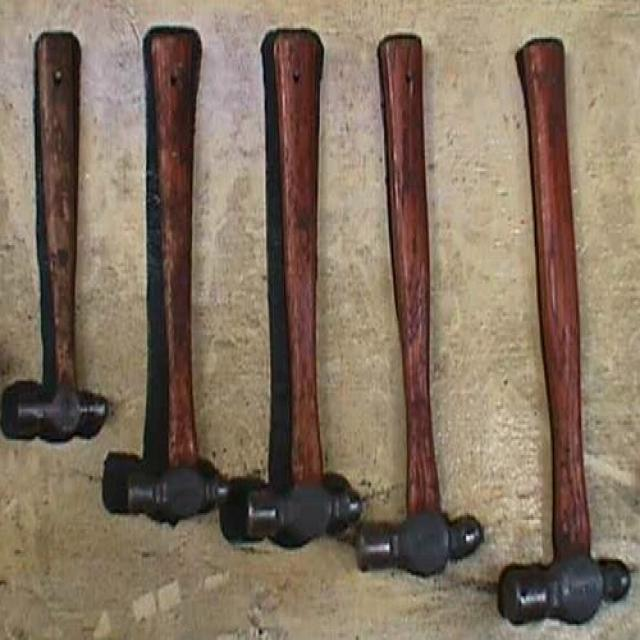hammer: (480, 30, 638, 635), (348, 27, 488, 586), (240, 20, 368, 555), (96, 20, 225, 532), (0, 19, 111, 444)
